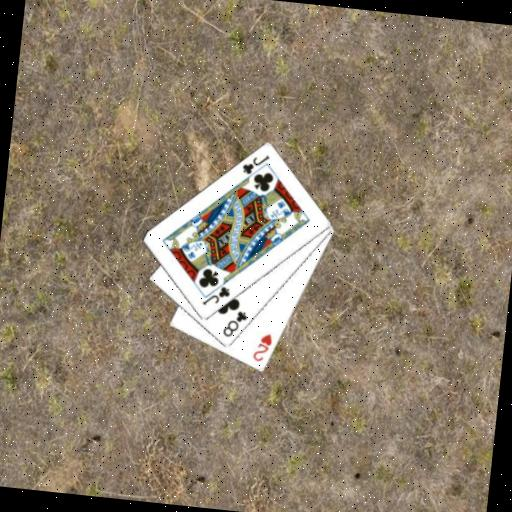2H: (250, 329, 275, 364)
8C: (219, 306, 250, 341)
JC: (198, 281, 232, 310), (238, 150, 272, 178)
